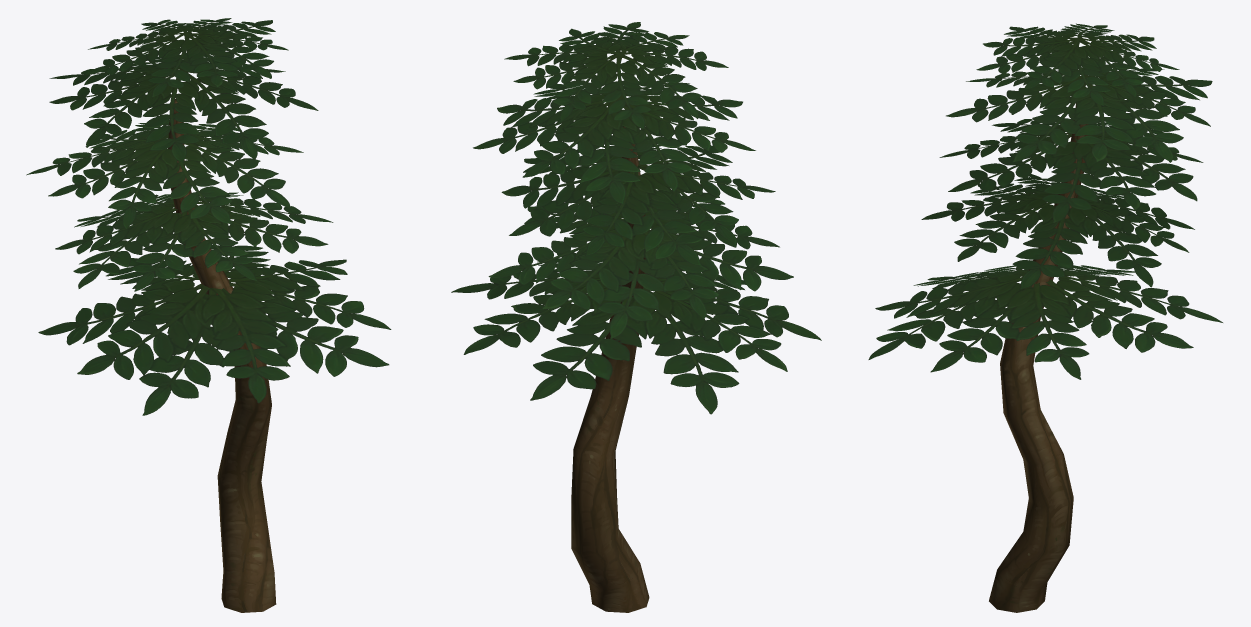
The model's file is Tree_02.fbx.
The picture shows the model from 3 angles, left to right: view 1: azimuth 30°, elevation 25°; view 2: azimuth 150°, elevation 25°; view 3: azimuth 270°, elevation 25°; orthographic projection. The views are drawn at different scales.
Visible parts, largest first — view 1: Leaves_02, Trunk_02; view 2: Leaves_02, Trunk_02; view 3: Leaves_02, Trunk_02.
Boxes of the visible parts, x1,y1,x2,y2 form: Leaves_02: (26, 18, 391, 415); Trunk_02: (168, 98, 276, 612); Leaves_02: (451, 22, 821, 414); Trunk_02: (571, 126, 649, 612); Leaves_02: (868, 23, 1222, 379); Trunk_02: (989, 102, 1088, 612).
Size of the model in its own units: 7.63 by 10.75 by 6.79.
2 materials, 2 textured.
